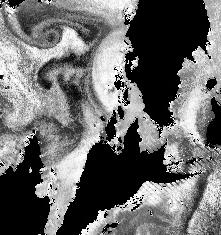CE: (29, 18, 61, 49)
